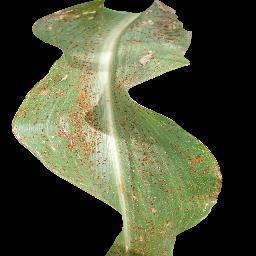Corn_Common_Rust: (119, 112, 226, 256), (9, 77, 118, 196), (28, 0, 195, 60), (42, 59, 194, 78), (118, 77, 157, 113), (104, 232, 118, 256), (97, 197, 118, 212)
